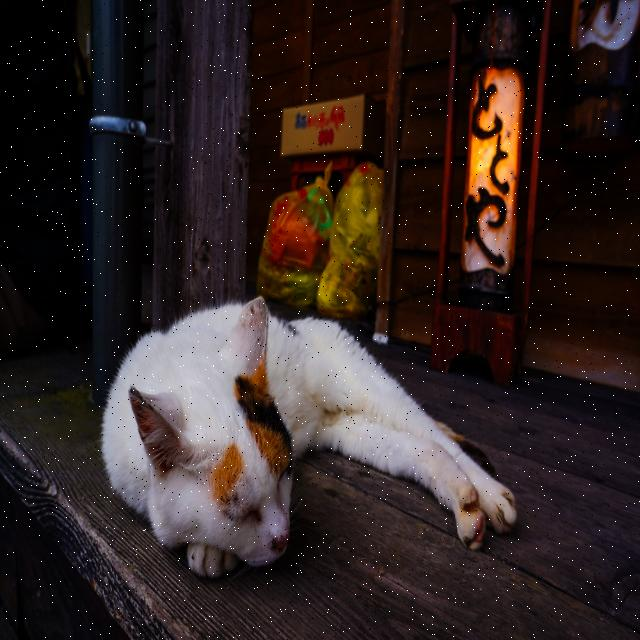cat: (101, 297, 515, 576)
